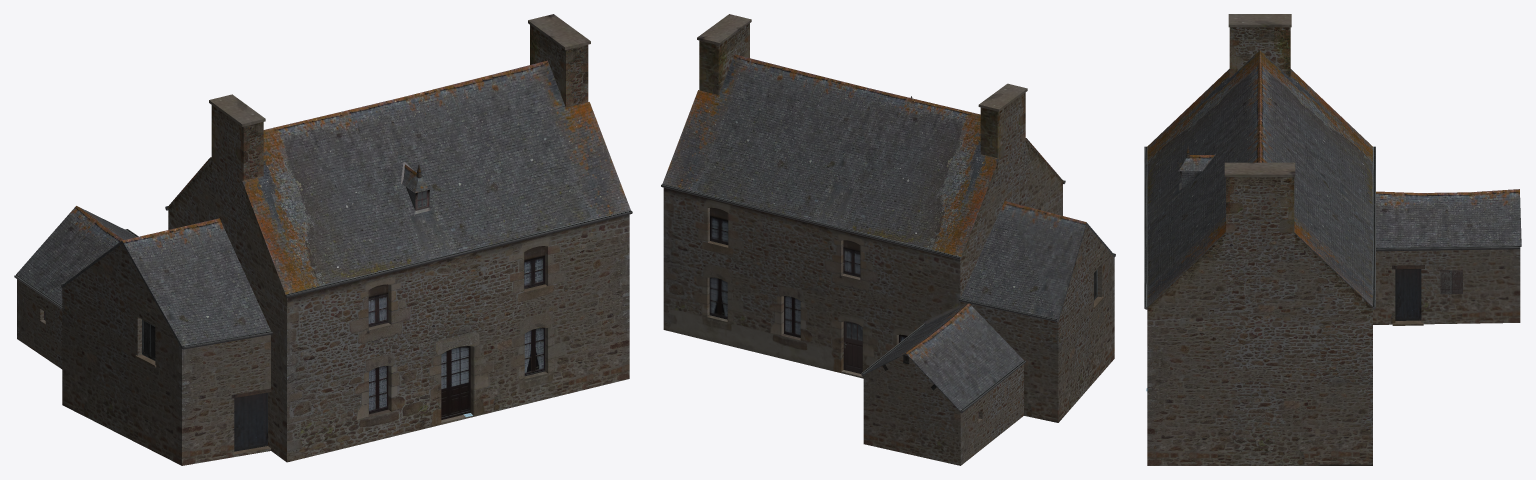
The model's file is tramain_house_1_france.glb.
The picture shows the model from 3 angles, left to right: view 1: azimuth 30°, elevation 25°; view 2: azimuth 150°, elevation 25°; view 3: azimuth 270°, elevation 25°; orthographic projection. The views are drawn at different scales.
Parts seen in each view (by area): view 1: tramain 1; view 2: tramain 1; view 3: tramain 1.
Boxes of the visible parts, bbox=[...] form: tramain 1: bbox=[14, 14, 632, 465]; tramain 1: bbox=[661, 14, 1115, 465]; tramain 1: bbox=[1144, 14, 1521, 465].
Bounding box in the file's own units: 16.57 × 10.71 × 12.54.
Materials: 1 (1 with a texture image).
